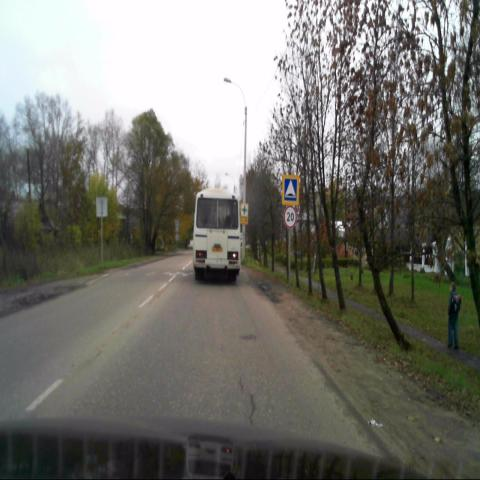3_24: (283, 205, 297, 230)
5_20: (282, 175, 299, 205)
